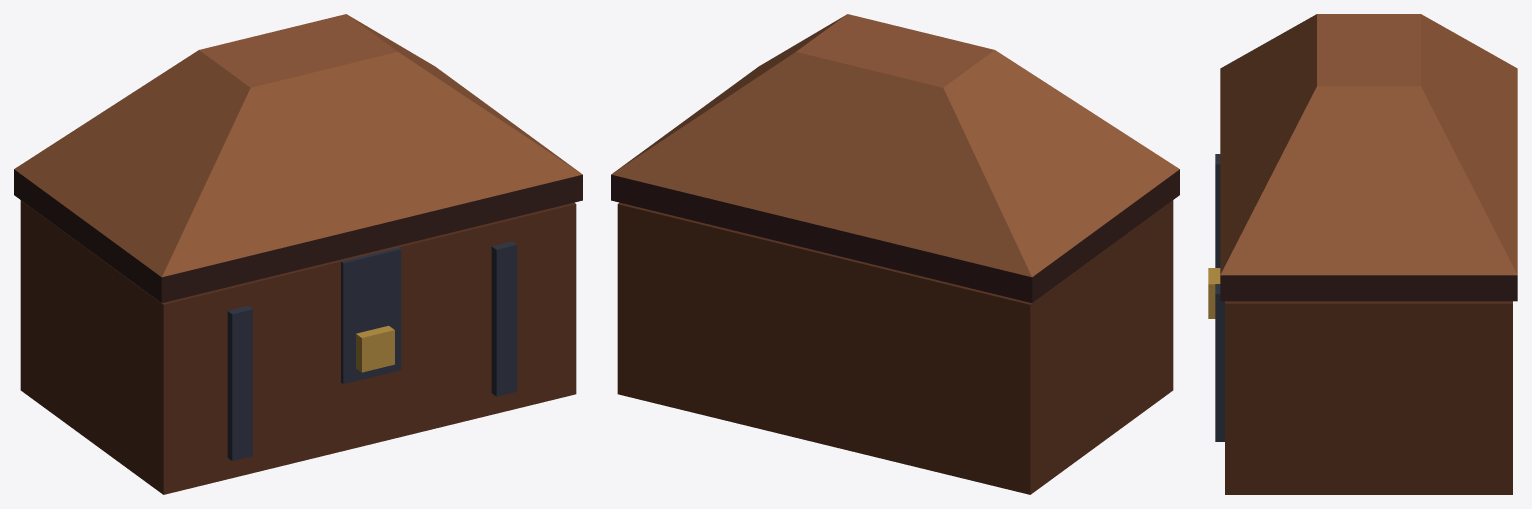
Rendered from chest_small.obj.
3 views of the same model, side by side, from view 1: azimuth 30°, elevation 25°; view 2: azimuth 150°, elevation 25°; view 3: azimuth 270°, elevation 25° (orthographic).
Bounding box in the file's own units: 1.02 × 0.79 × 0.645.
